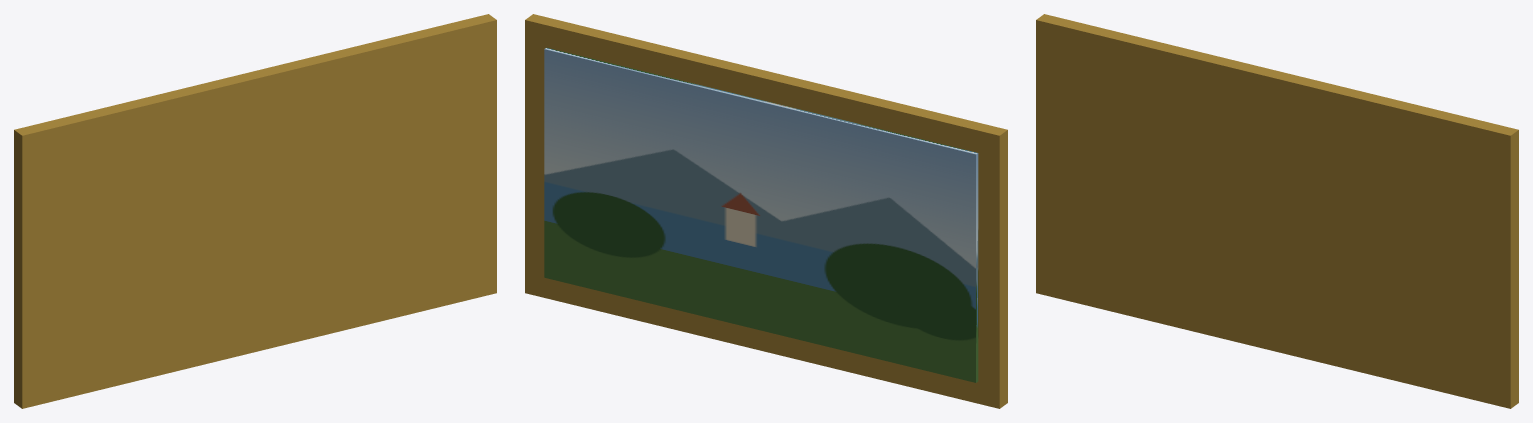
Rendered from painting.glb.
3 renders of one model, left to right at view 1: azimuth 30°, elevation 25°; view 2: azimuth 150°, elevation 25°; view 3: azimuth 330°, elevation 25°, orthographic.
Parts seen in each view (by area): view 1: painting; view 2: painting; view 3: painting.
Part boxes in pixels (bbox=[...]): painting: bbox=[14, 14, 496, 408]; painting: bbox=[525, 14, 1007, 408]; painting: bbox=[1036, 14, 1518, 408].
Size of the model in its own units: 1 by 0.55 by 0.038.
2 materials, 1 textured.
